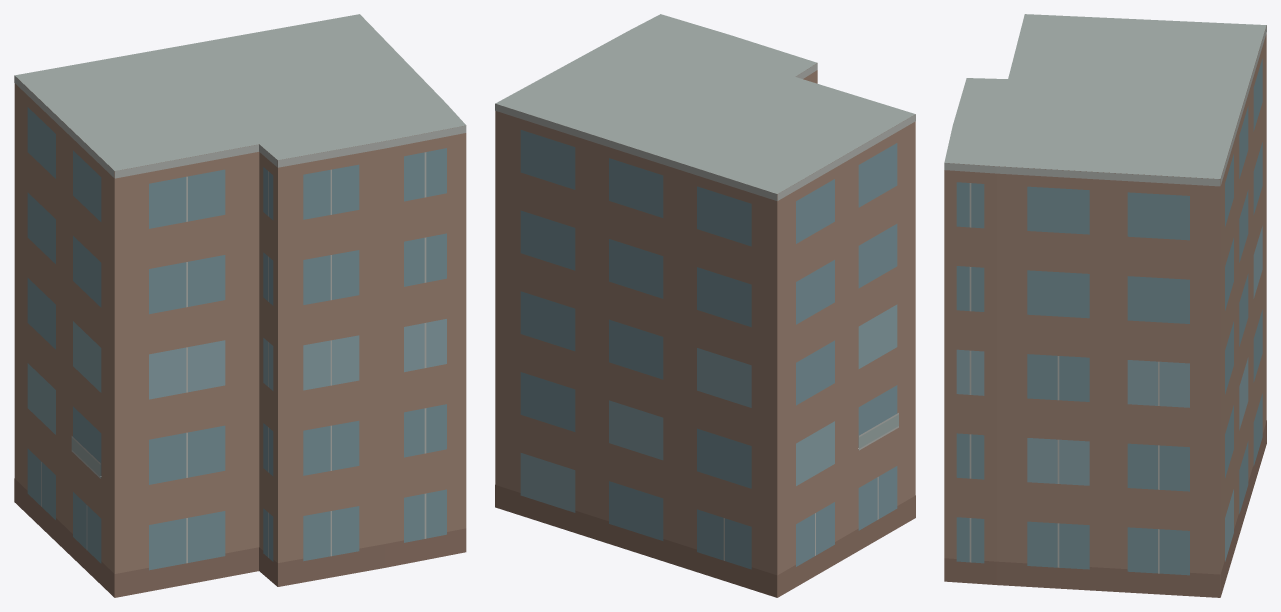
Rendered from survey-upis-32565670.glb.
The picture shows the model from 3 angles, left to right: view 1: azimuth 30°, elevation 25°; view 2: azimuth 150°, elevation 25°; view 3: azimuth 270°, elevation 25°; orthographic projection. The views are drawn at different scales.
Parts seen in each view (by area): view 1: survey-upis-32565670.tmp; view 2: survey-upis-32565670.tmp; view 3: survey-upis-32565670.tmp.
Boxes of the visible parts, x1,y1,x2,y2 form: survey-upis-32565670.tmp: (14,14,466,597); survey-upis-32565670.tmp: (495,14,915,597); survey-upis-32565670.tmp: (944,14,1266,597).
Size of the model in its own units: 11.76 by 13.9 by 9.71.
